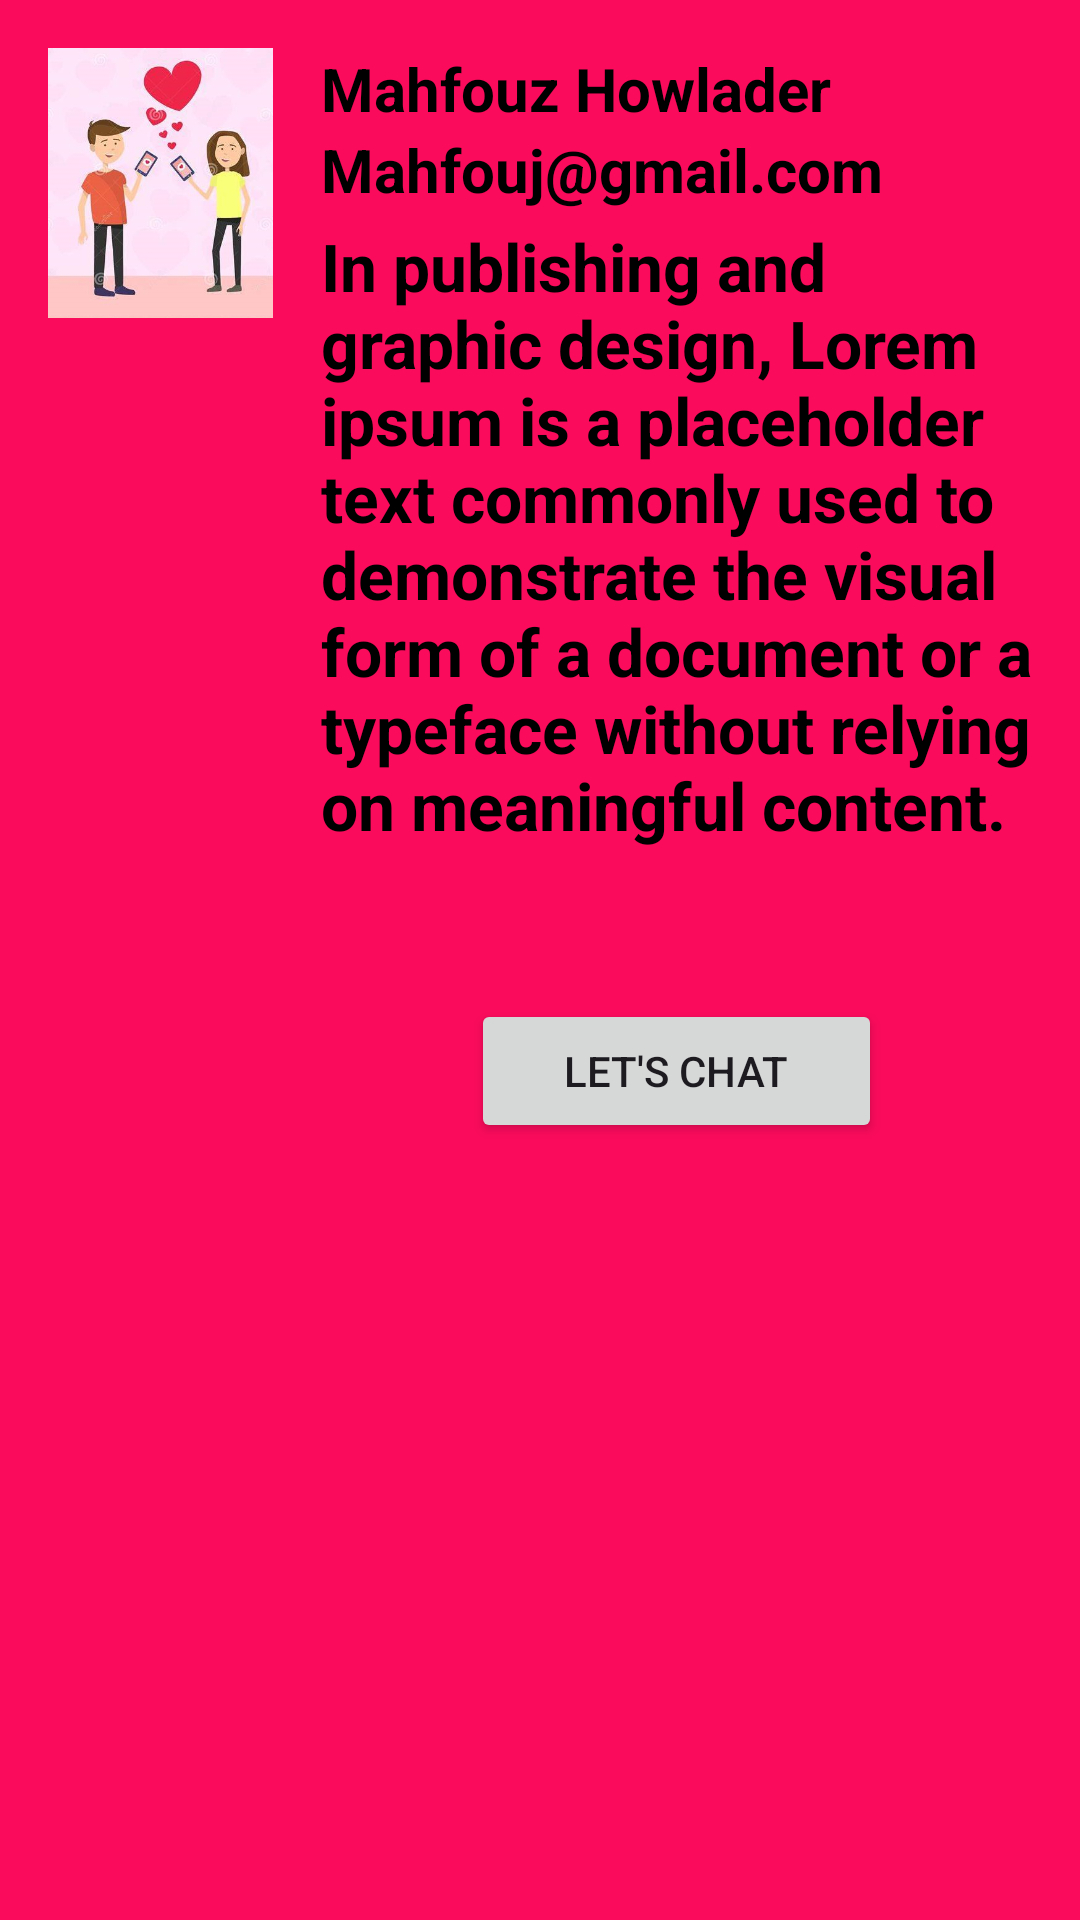

Icons on this 1080 × 1920 Android screen, each with its box as (x1, y1, x2, y2):
dating: (48, 48, 273, 318)
